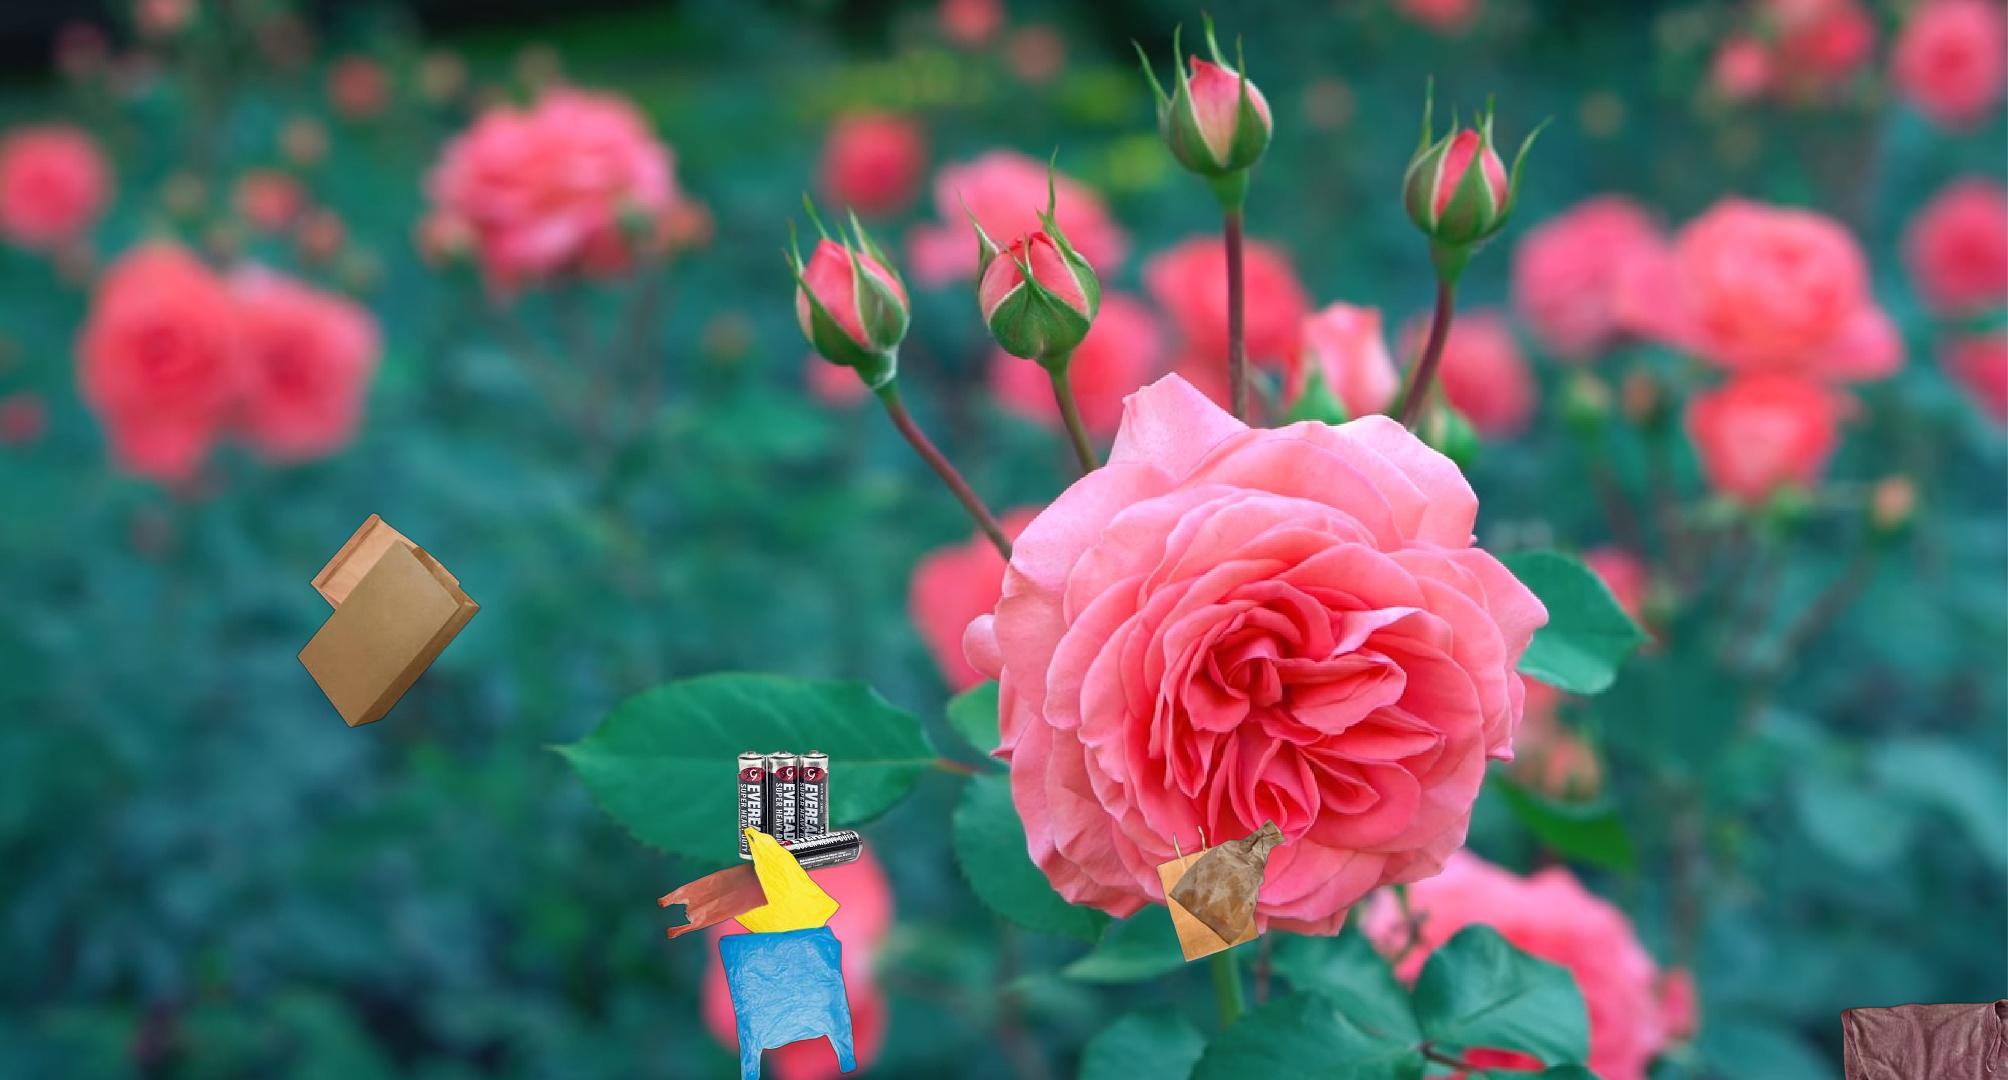battery: (733, 747, 866, 880)
clothes: (1836, 996, 2008, 1080)
paper-bag: (294, 509, 484, 730), (1154, 817, 1289, 964)
plastic-bag: (656, 823, 860, 1080)
